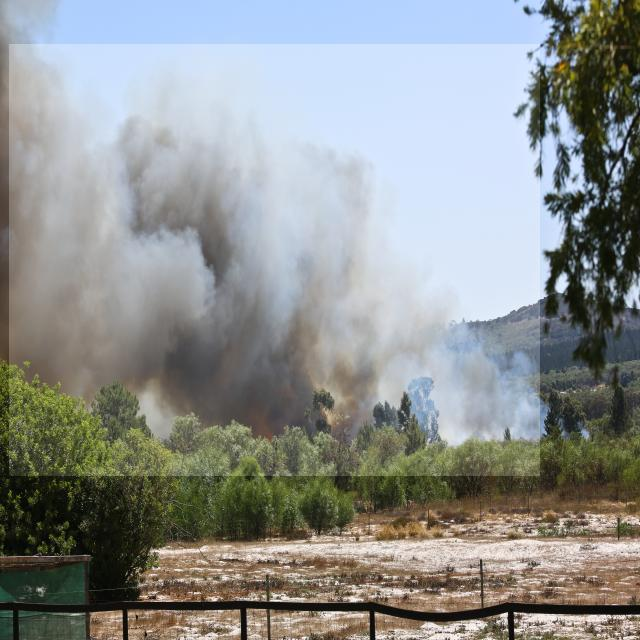Smoke: (9, 44, 540, 476)
